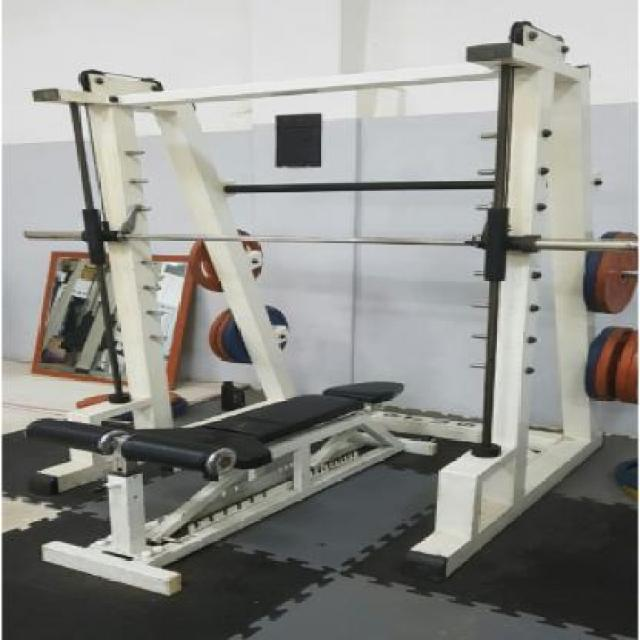smith machine: (32, 20, 602, 582)
